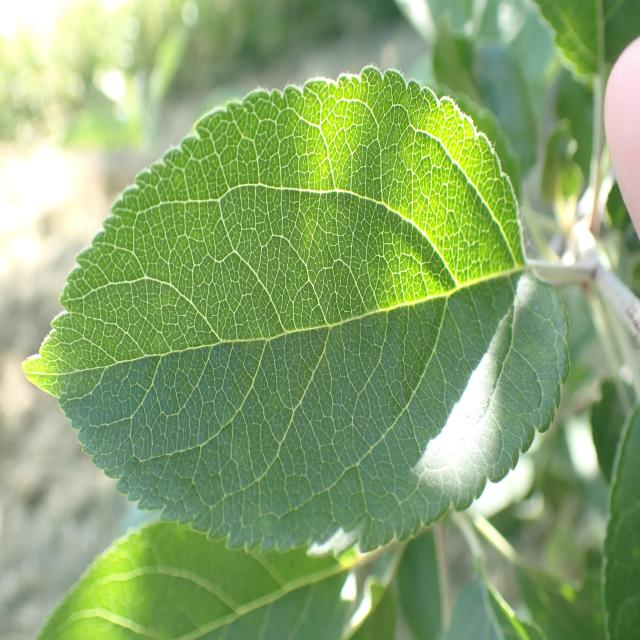healthy: (23, 64, 571, 556), (33, 515, 396, 640), (600, 401, 640, 640)
